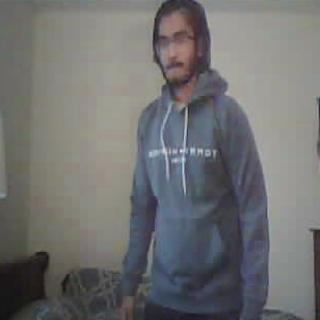Blue Hoodie: (124, 84, 270, 304)
Navy Sweatpants: (147, 311, 235, 320)
